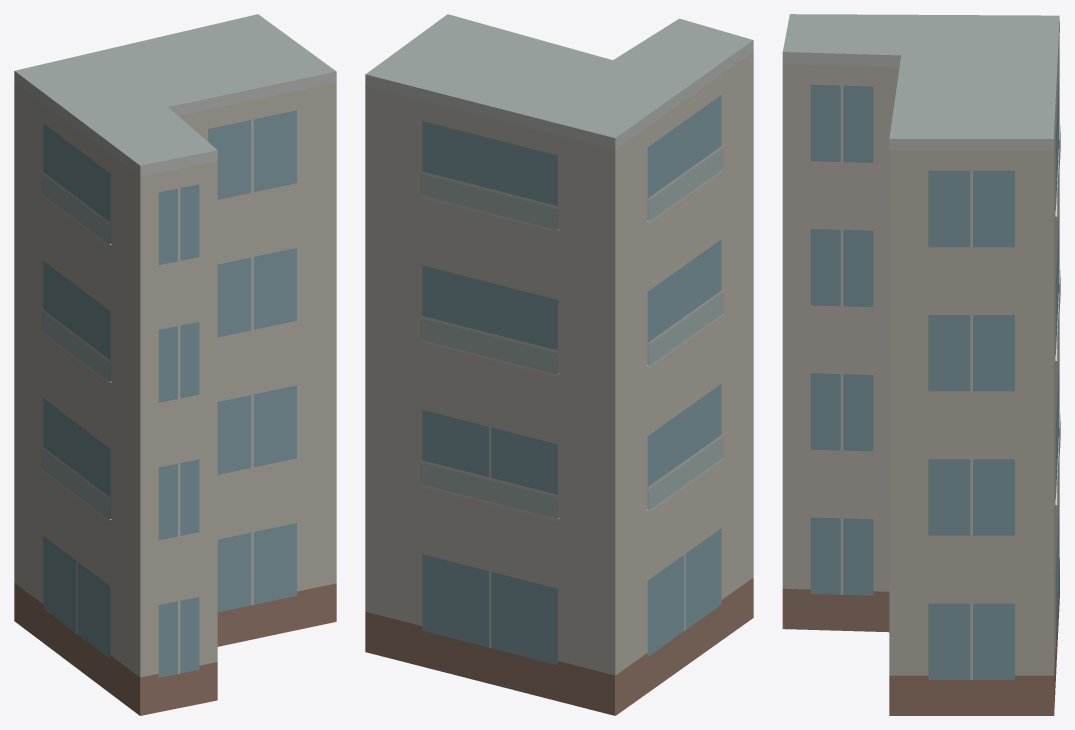
File: survey-upis-32469893.glb
3 renders of one model, left to right at view 1: azimuth 30°, elevation 25°; view 2: azimuth 150°, elevation 25°; view 3: azimuth 270°, elevation 25°, orthographic. The views are drawn at different scales.
Visible parts, largest first — view 1: survey-upis-32469893.tmp; view 2: survey-upis-32469893.tmp; view 3: survey-upis-32469893.tmp.
Boxes of the visible parts, bbox=[...] form: survey-upis-32469893.tmp: bbox=[14, 14, 336, 715]; survey-upis-32469893.tmp: bbox=[365, 14, 753, 715]; survey-upis-32469893.tmp: bbox=[782, 14, 1060, 715].
Bounding box in the file's own units: 5.69 × 12.2 × 5.33.
